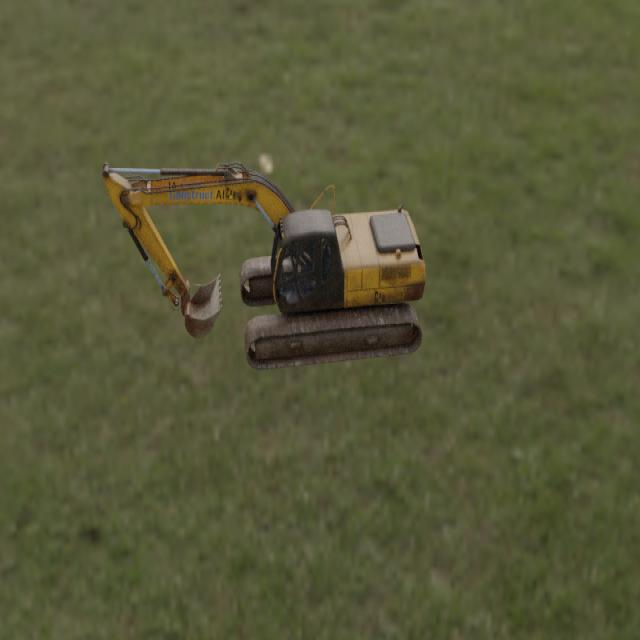excavator: (101, 161, 426, 371)
